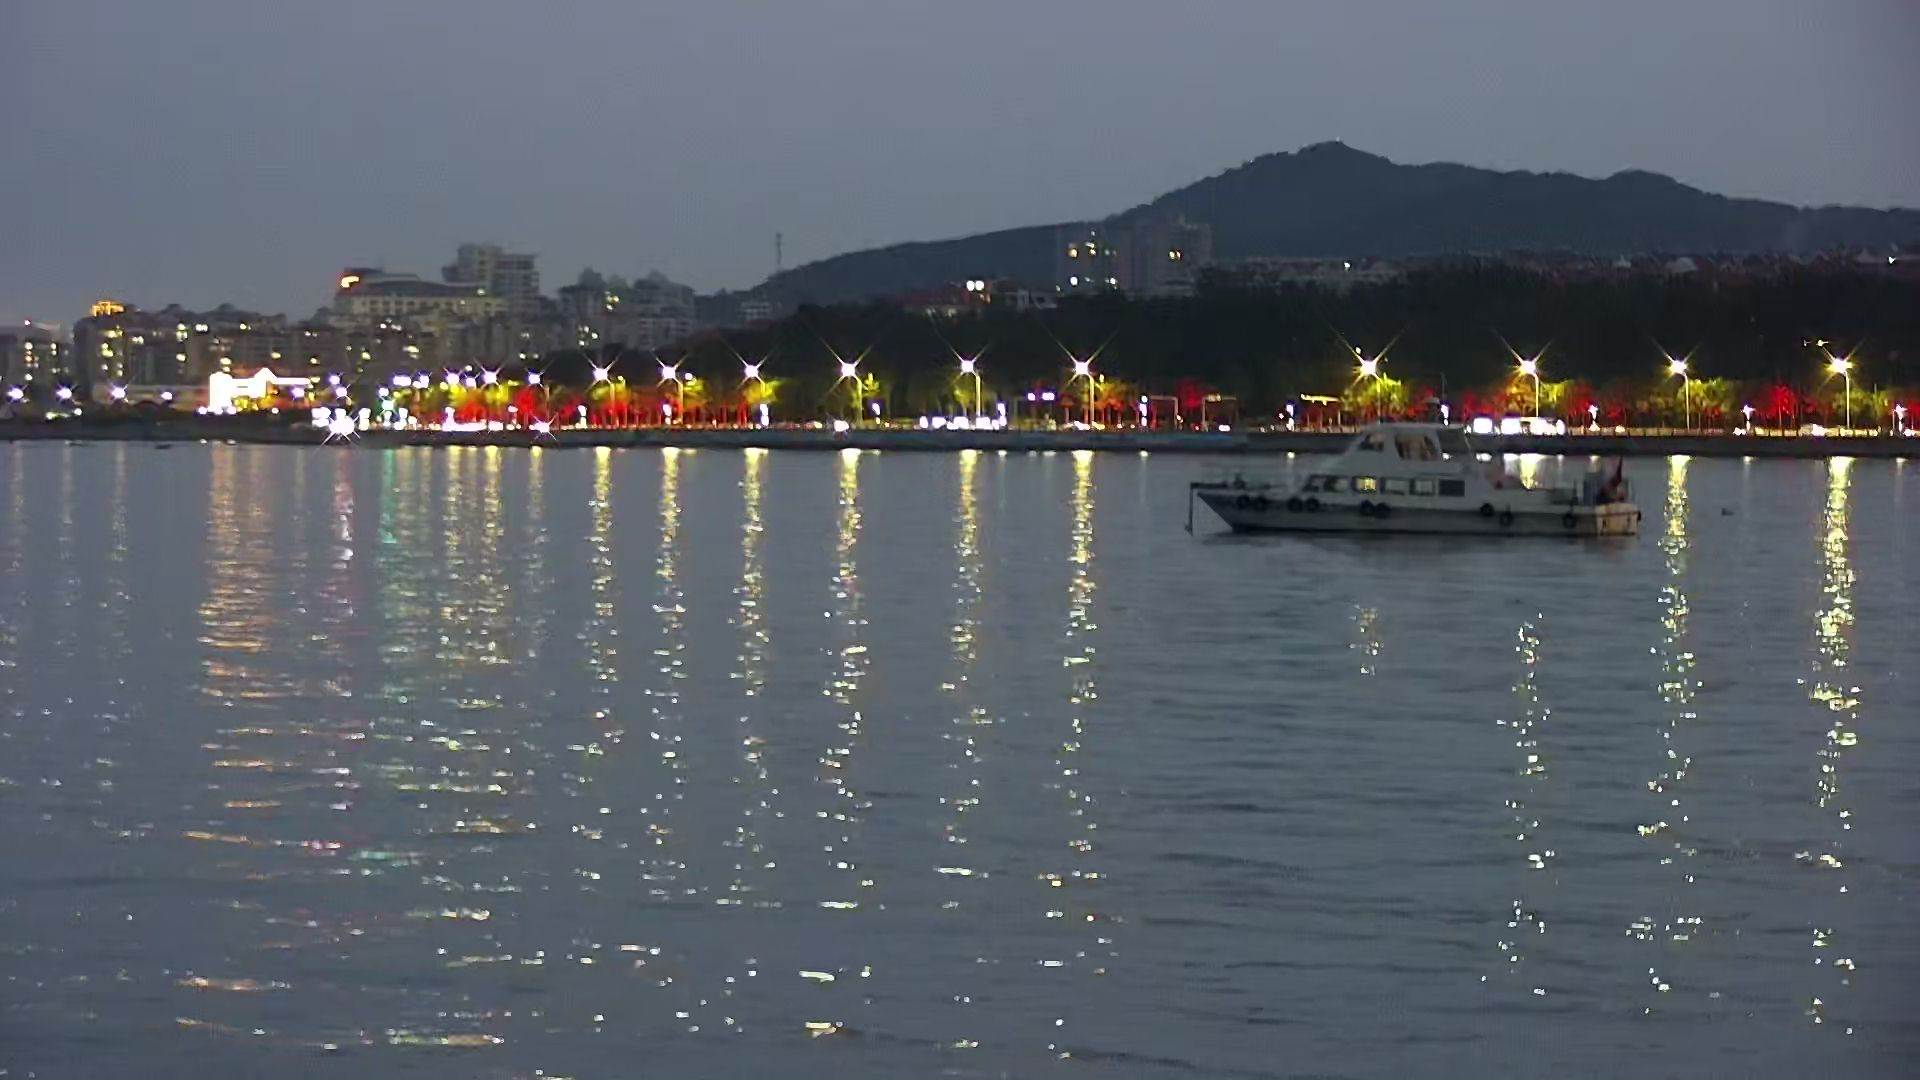ship: (1187, 415, 1647, 541)
